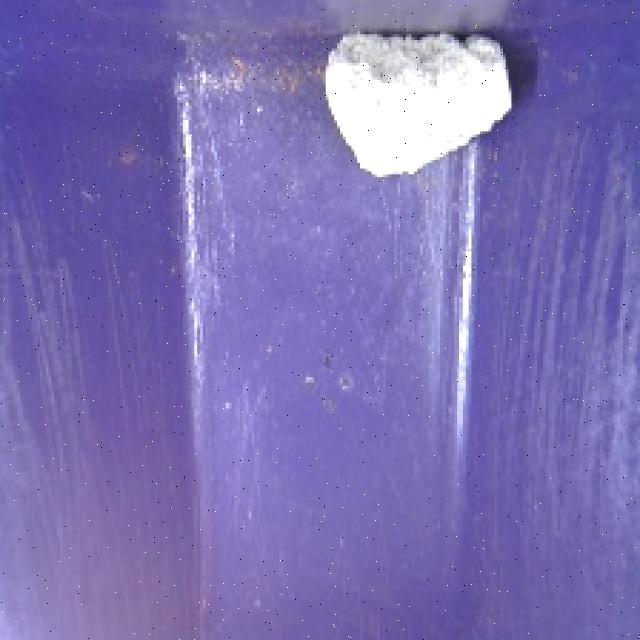brick: (311, 19, 543, 182)
